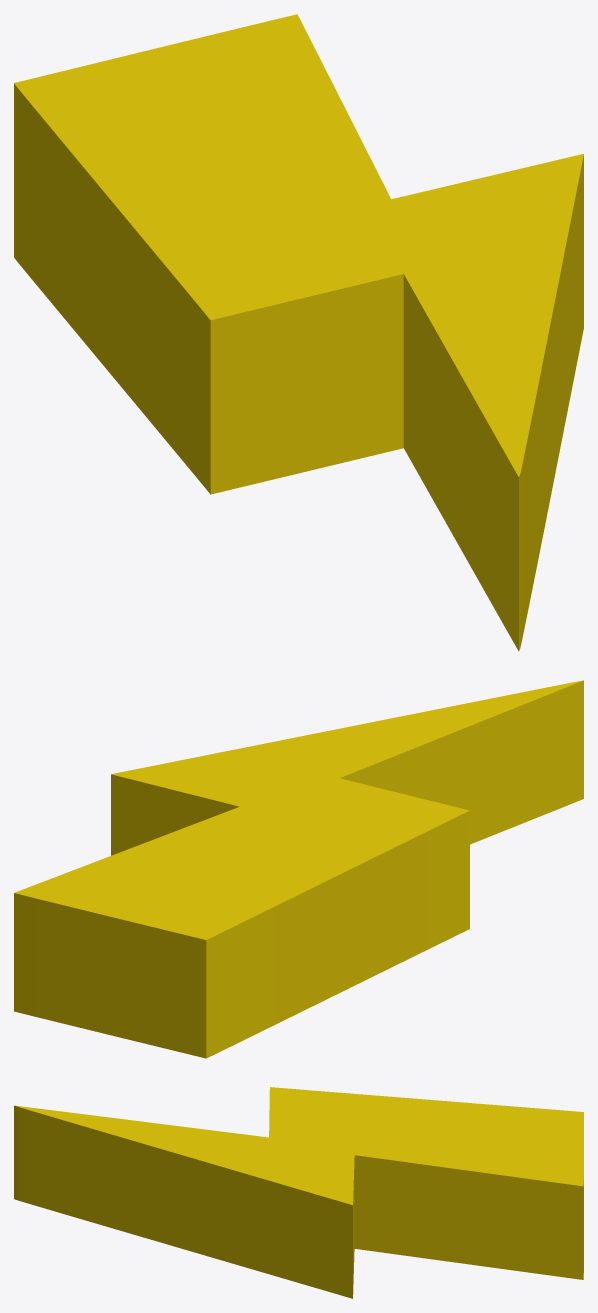
File: Blitz_simple.fbx
The picture shows the model from 3 angles, top to bottom: view 1: azimuth 30°, elevation 25°; view 2: azimuth 150°, elevation 25°; view 3: azimuth 270°, elevation 25°; orthographic projection. The views are drawn at different scales.
Parts seen in each view (by area): view 1: path243.001; view 2: path243.001; view 3: path243.001.
Part boxes in pixels (box(x1,y1,x2,y2)): path243.001: box(14, 14, 583, 650); path243.001: box(14, 680, 583, 1058); path243.001: box(14, 1087, 583, 1298).
Bounding box in the file's own units: 4.06 × 1.5 × 8.27.
